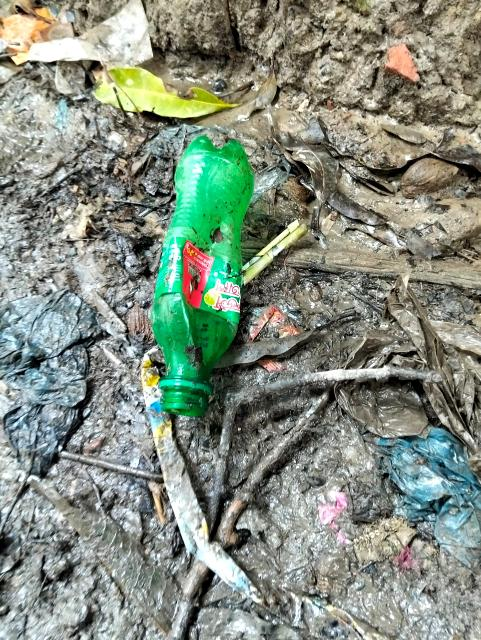bottle: (137, 126, 267, 416)
